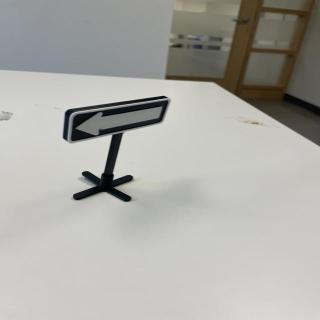sign_oneway_left: (63, 96, 172, 143)
